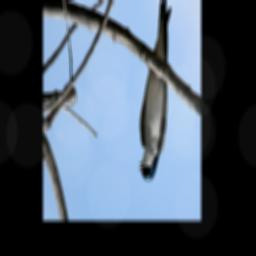Swallow: (138, 0, 171, 180)
